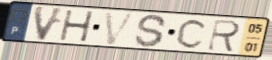C: (175, 17, 210, 50)
H: (58, 9, 96, 43)
R: (205, 18, 243, 54)
S: (133, 13, 169, 49)
V: (32, 5, 67, 43), (103, 10, 139, 46)
